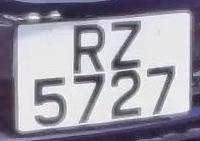2: (109, 67, 148, 123)
5: (26, 72, 72, 134)
7: (64, 71, 112, 125), (144, 63, 181, 119)
R: (66, 18, 112, 75)
Z: (105, 17, 151, 73)
